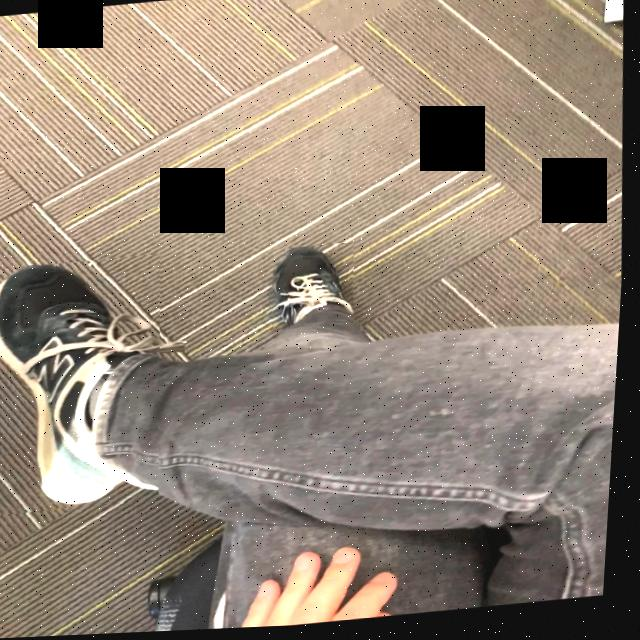shoe: (0, 266, 164, 509), (274, 249, 357, 331)
